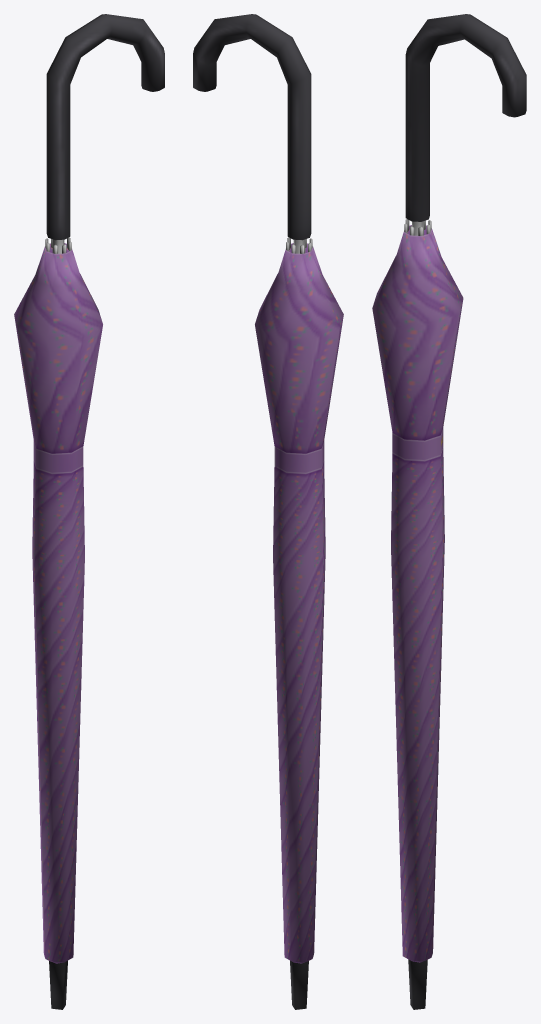
Rendered from set_umbrella_06.fbx.
3 views of the same model, side by side, from view 1: azimuth 30°, elevation 25°; view 2: azimuth 150°, elevation 25°; view 3: azimuth 330°, elevation 25° (orthographic). The views are drawn at different scales.
Parts seen in each view (by area): view 1: set_umbrella_06; view 2: set_umbrella_06; view 3: set_umbrella_06.
Part boxes in pixels (x1=…): set_umbrella_06: x1=14, y1=14, x2=164, y2=1009; set_umbrella_06: x1=193, y1=14, x2=343, y2=1009; set_umbrella_06: x1=372, y1=14, x2=526, y2=1009.
Bounding box in the file's own units: 12.79 × 82.9 × 7.05.
